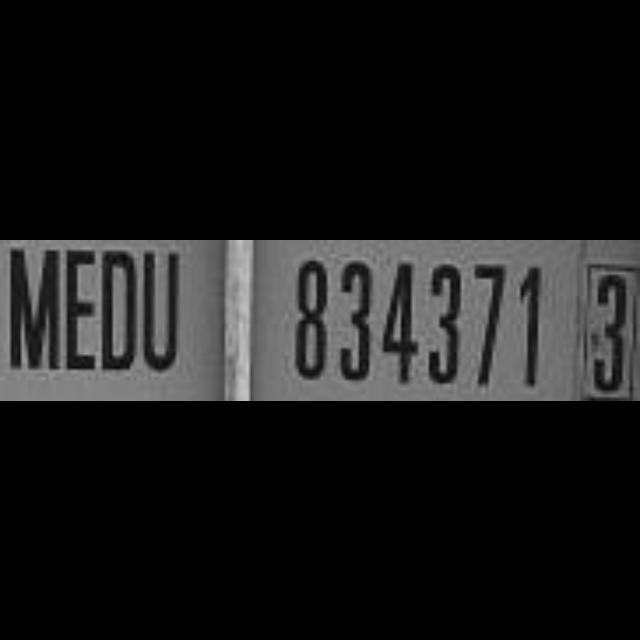1: (514, 255, 552, 393)
3: (589, 266, 631, 396), (428, 256, 467, 394), (338, 254, 374, 388)
4: (379, 254, 423, 390)
7: (469, 255, 511, 392)
8: (286, 252, 334, 388)
d: (100, 243, 140, 375)
e: (62, 242, 100, 374)
m: (6, 240, 64, 376)
u: (140, 245, 184, 378)
